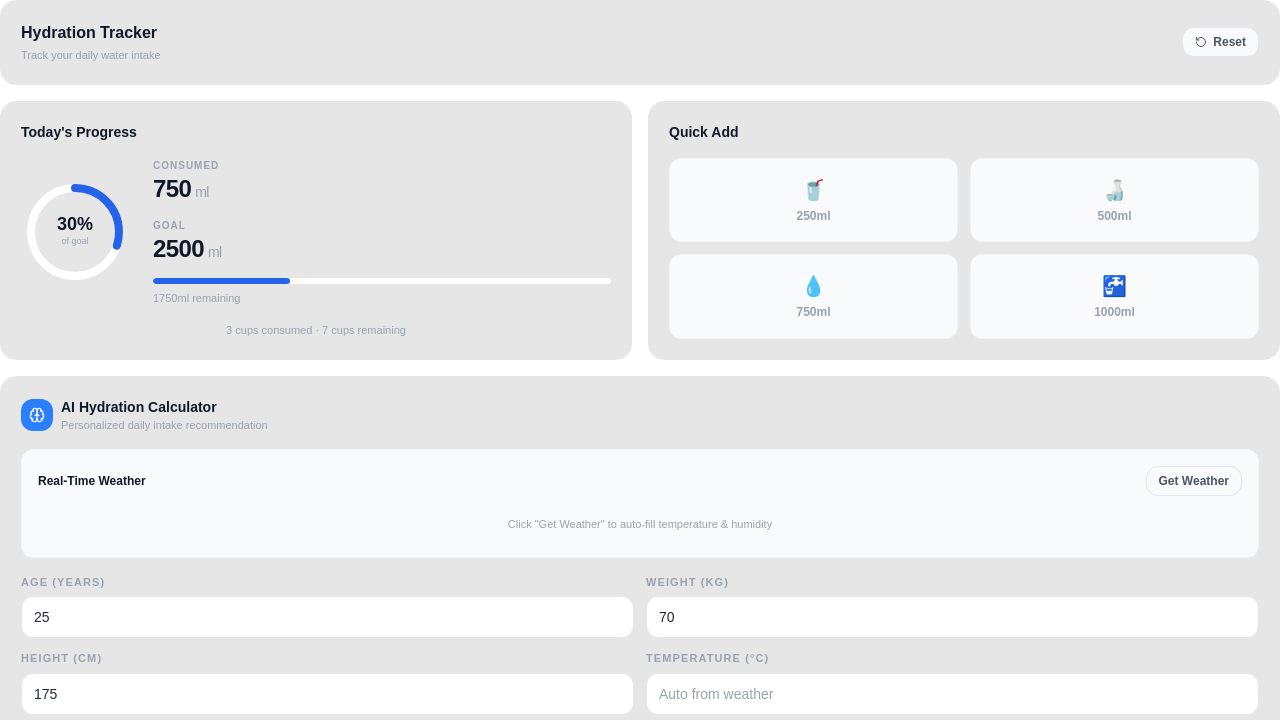
Test case: resets water intake to 0 when Reset is clicked
What coordinates should you click on to do the following:
click the button "Reset"
I would click on:
 (1221, 42)
Its box is x1=1182 y1=27 x2=1259 y2=57.
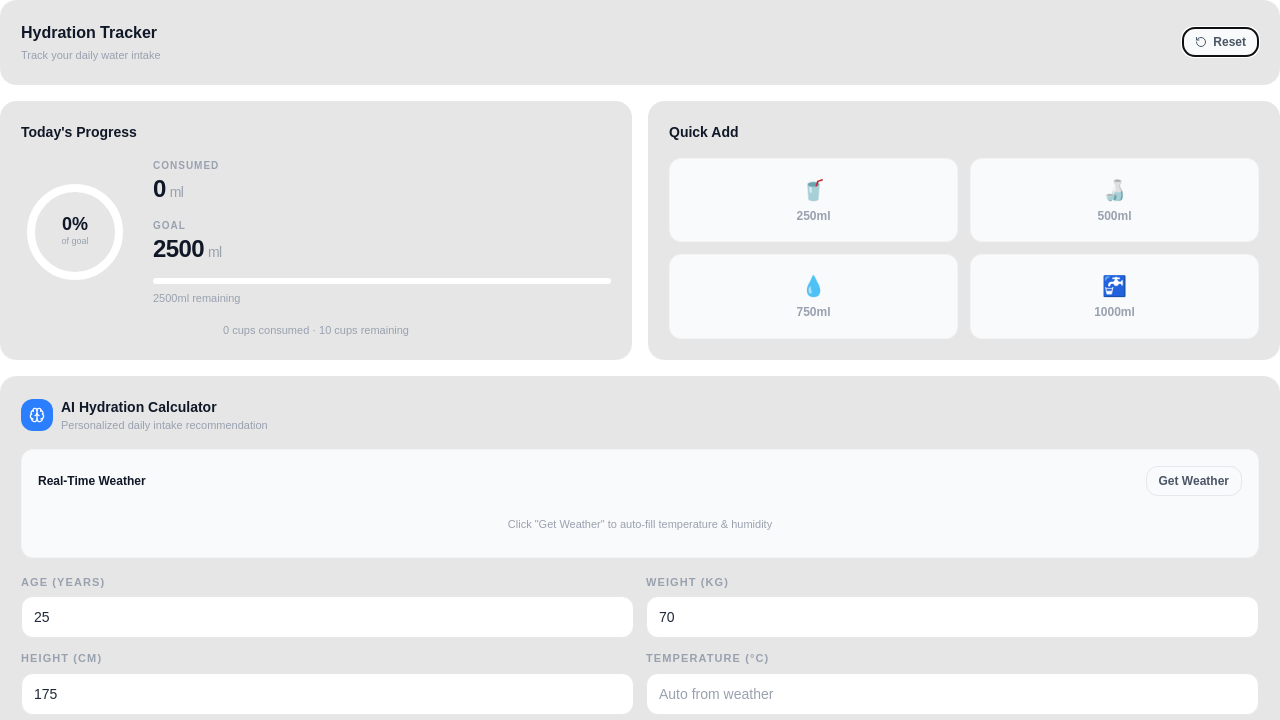
Now the text "2500ml remaining" is shown, box x1=153 y1=292 x2=240 y2=304
